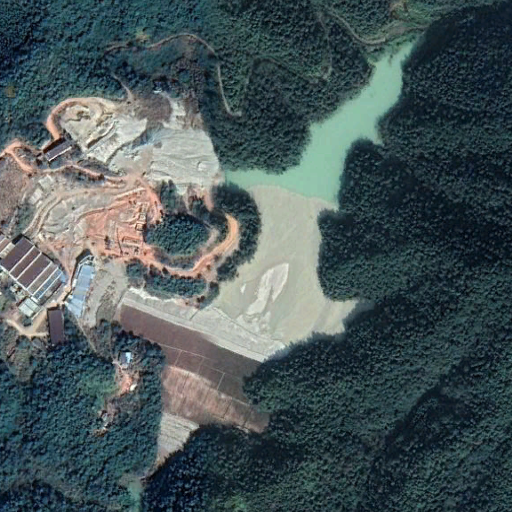tp: (123, 41, 409, 464)
